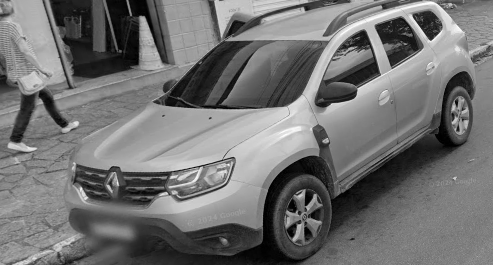car: (65, 5, 479, 255)
